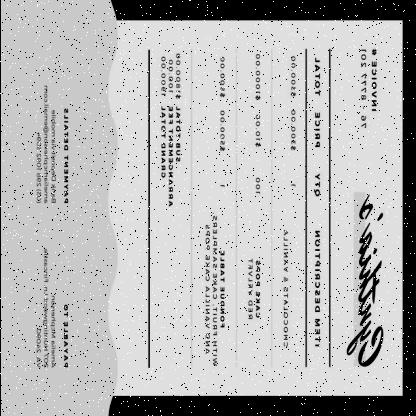Paragraph: (343, 192, 389, 374), (355, 46, 381, 136)
